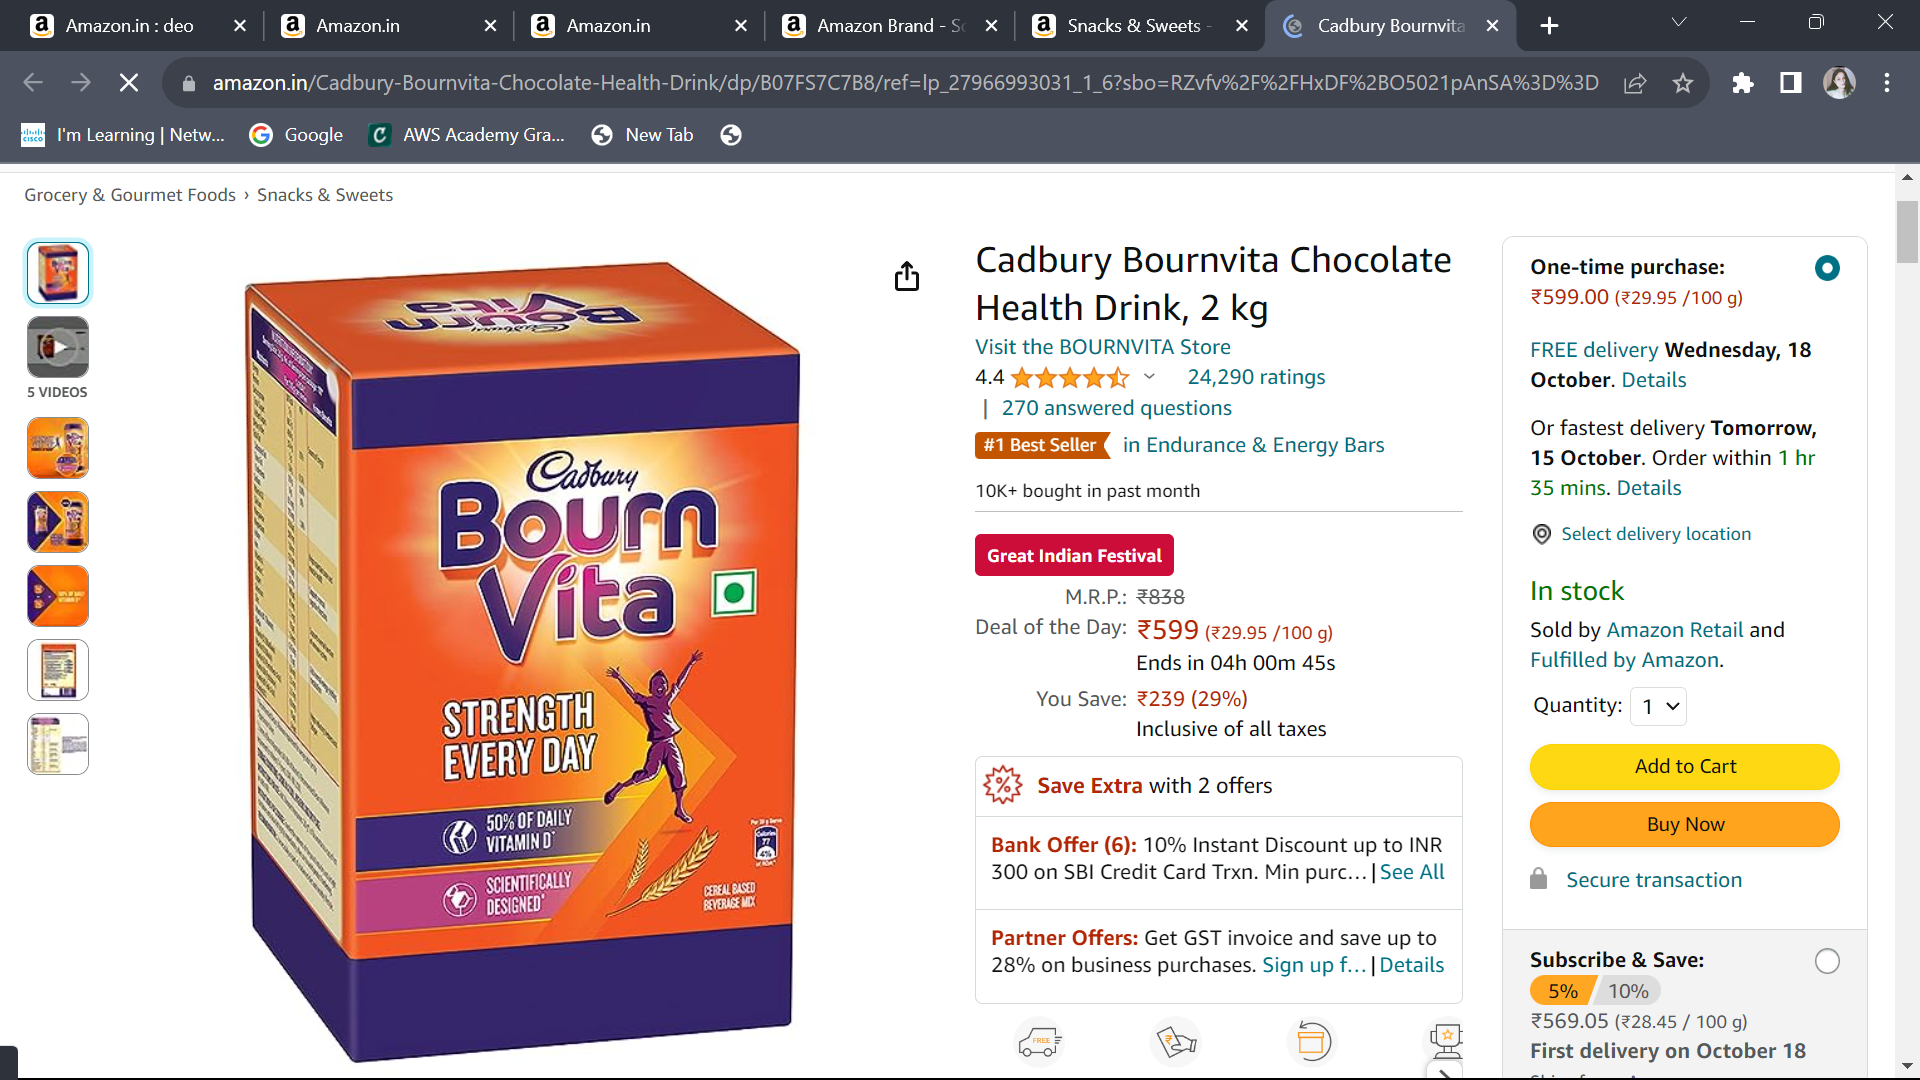Image: (212, 215, 833, 1058)
Paragraph: (956, 531, 1389, 758), (949, 824, 1476, 994), (1523, 338, 1828, 501), (935, 241, 1460, 331), (1499, 735, 1851, 860), (964, 425, 1427, 520), (961, 335, 1344, 425), (1516, 615, 1816, 692), (1523, 248, 1818, 326), (968, 761, 1335, 810), (1514, 522, 1816, 555), (1516, 860, 1795, 895), (1511, 696, 1738, 723), (1505, 574, 1667, 609)
